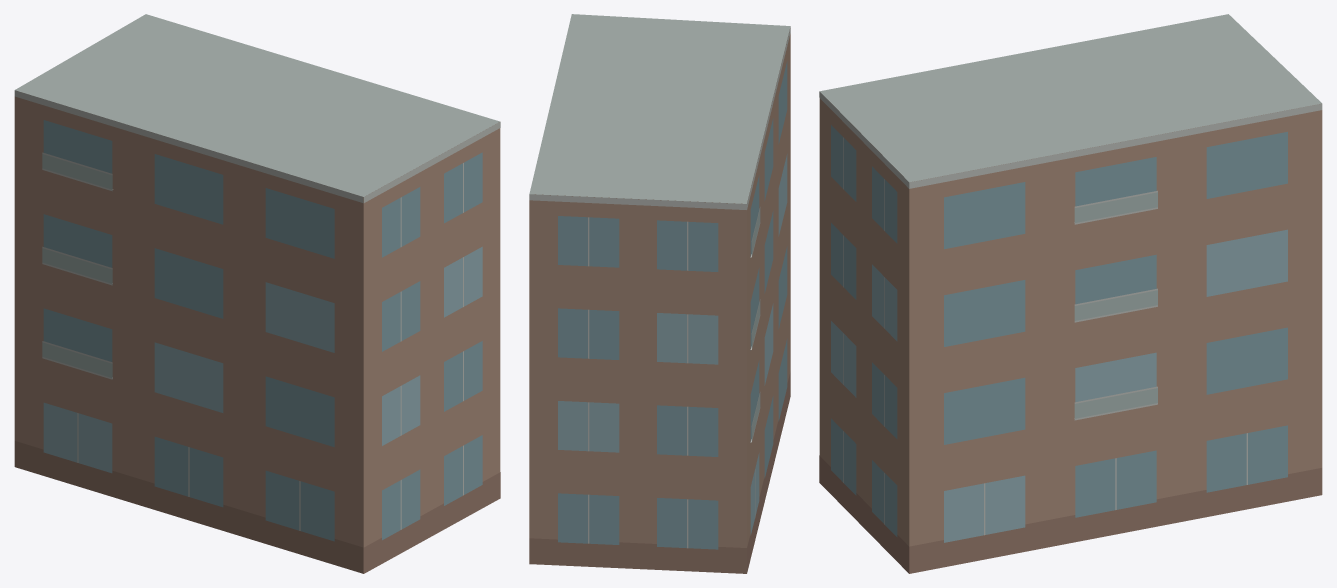
File: survey-upis-32809073.glb
The picture shows the model from 3 angles, left to right: view 1: azimuth 30°, elevation 25°; view 2: azimuth 150°, elevation 25°; view 3: azimuth 270°, elevation 25°; orthographic projection. The views are drawn at different scales.
Visible parts, largest first — view 1: survey-upis-32809073.tmp; view 2: survey-upis-32809073.tmp; view 3: survey-upis-32809073.tmp.
Boxes of the visible parts, x1,y1,x2,y2 form: survey-upis-32809073.tmp: (14, 14, 500, 573); survey-upis-32809073.tmp: (529, 14, 790, 573); survey-upis-32809073.tmp: (819, 14, 1322, 573).
Size of the model in its own units: 13.47 by 14.6 by 17.
